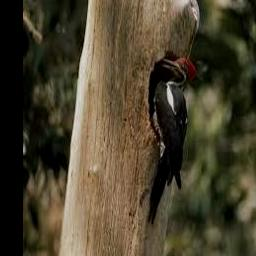Woodpecker: (147, 57, 196, 224)
